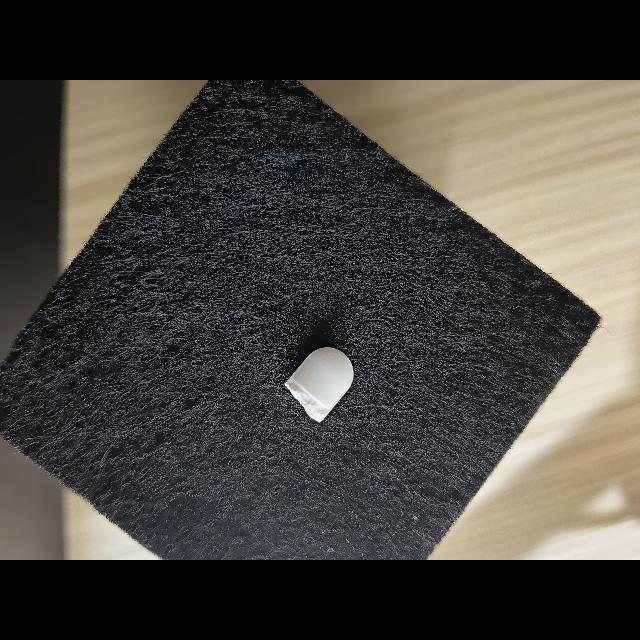Chipped Pill: (284, 347, 354, 422)
